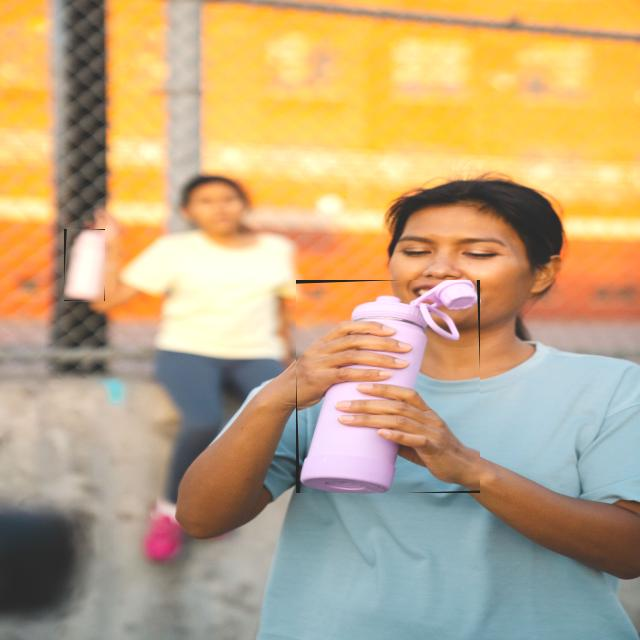Bottle: (354, 280, 479, 388), (65, 230, 105, 301)
